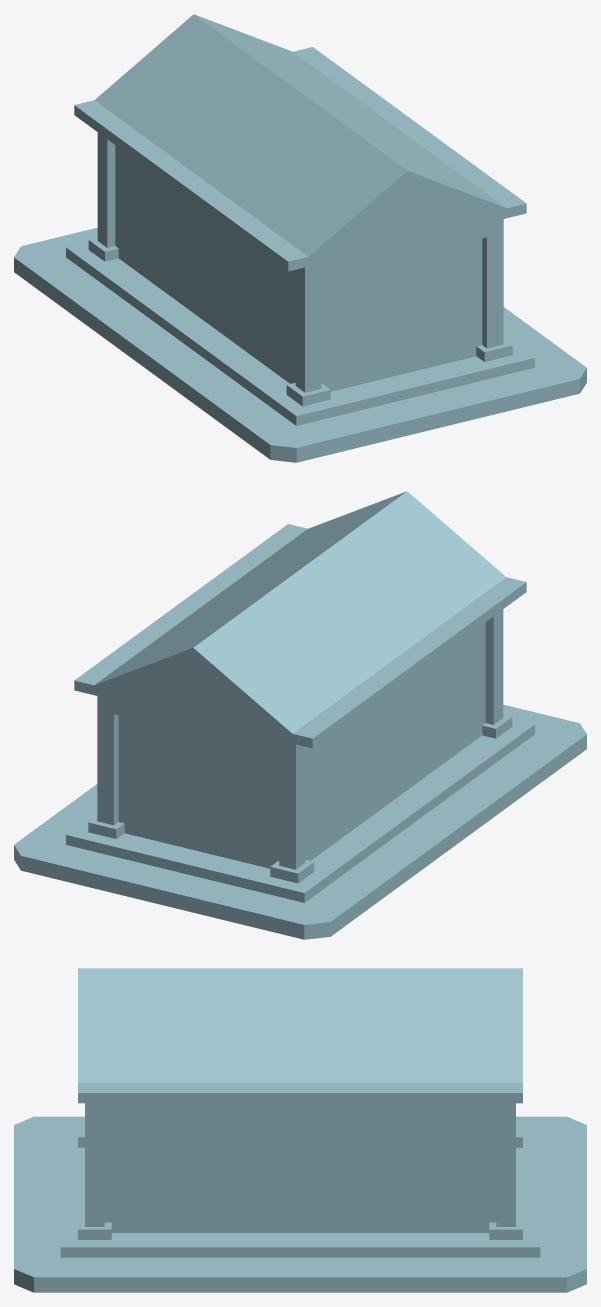
File: crypt.dae
3 renders of one model, top to bottom at view 1: azimuth 30°, elevation 25°; view 2: azimuth 150°, elevation 25°; view 3: azimuth 270°, elevation 25°, orthographic. The views are drawn at different scales.
Visible parts, largest first — view 1: crypt; view 2: crypt; view 3: crypt.
Boxes of the visible parts, box(x1,y1,x2,y2) form: crypt: box(14, 14, 586, 462); crypt: box(14, 491, 586, 939); crypt: box(14, 968, 586, 1292).
Size of the model in its own units: 0.7504 by 0.532 by 1.13.
